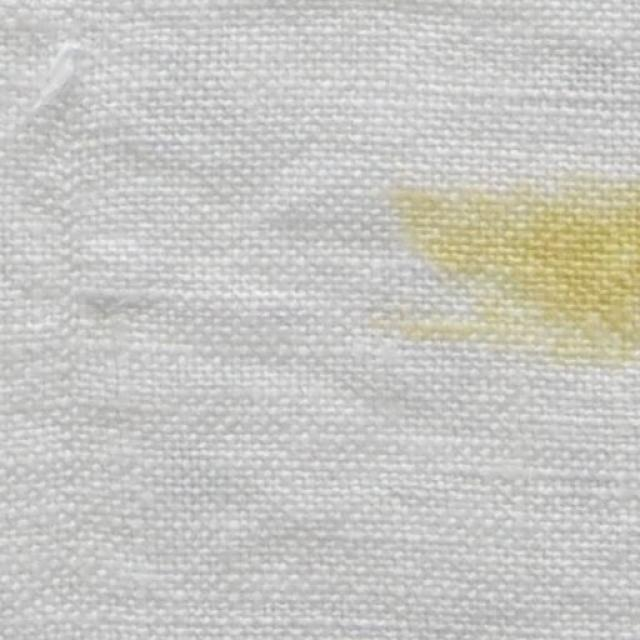Knot: (32, 42, 81, 111)
Stain: (0, 1, 640, 640)
